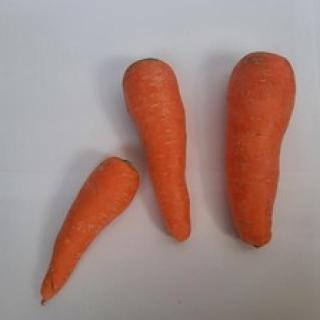carrot: (36, 154, 142, 307), (222, 49, 296, 250), (124, 57, 192, 242)
